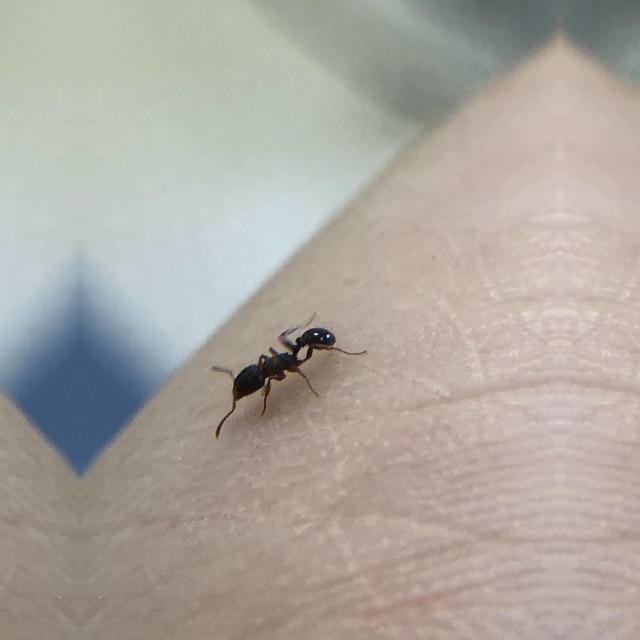Tetramorium: (195, 300, 372, 434)
